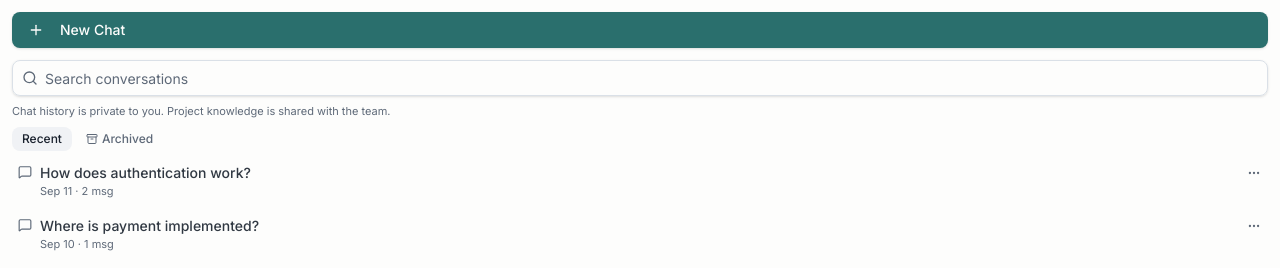
Test case: ConversationList › shows archived conversations and empty recent state
Expected: the text "How does authentication work?" is shown, left=40, top=164, right=251, bottom=181
Click the tab "Archived" at (120,139), box left=76, top=127, right=163, bottom=151
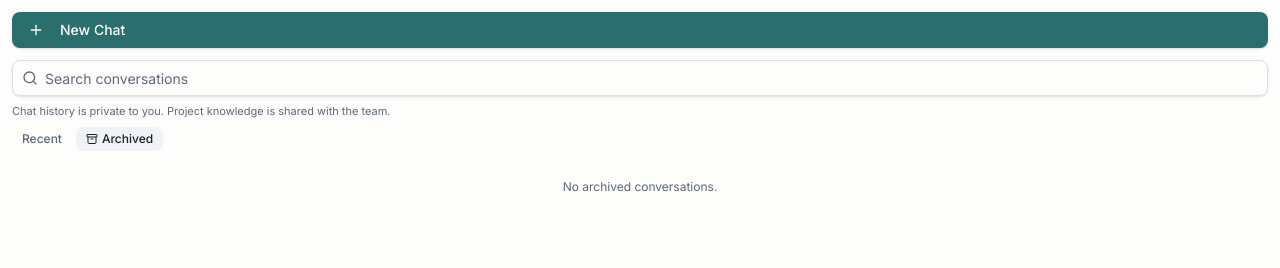
Now the text "No archived conversations." is shown, box left=563, top=179, right=717, bottom=194
